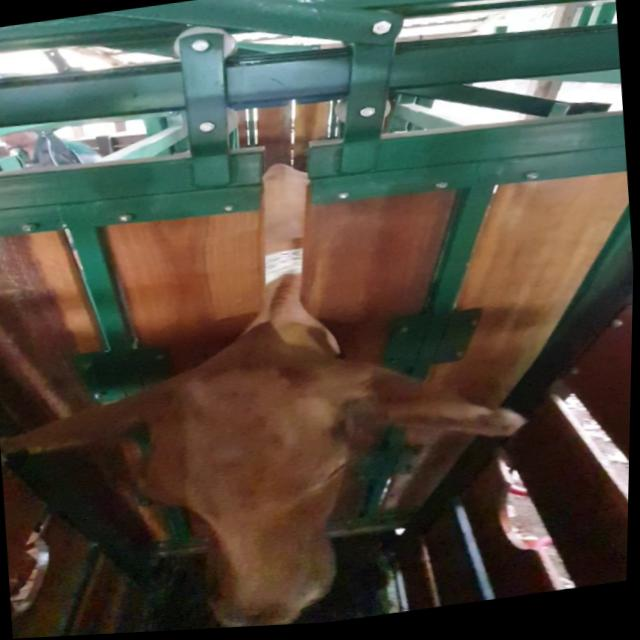cowFace: (131, 345, 368, 634)
